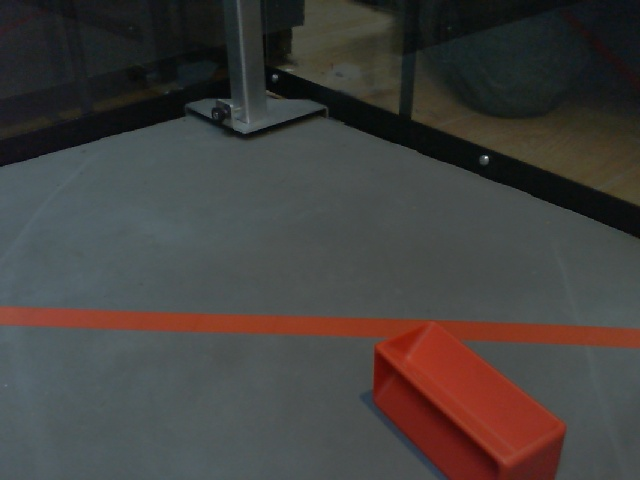RedSample: (370, 315, 567, 480)
